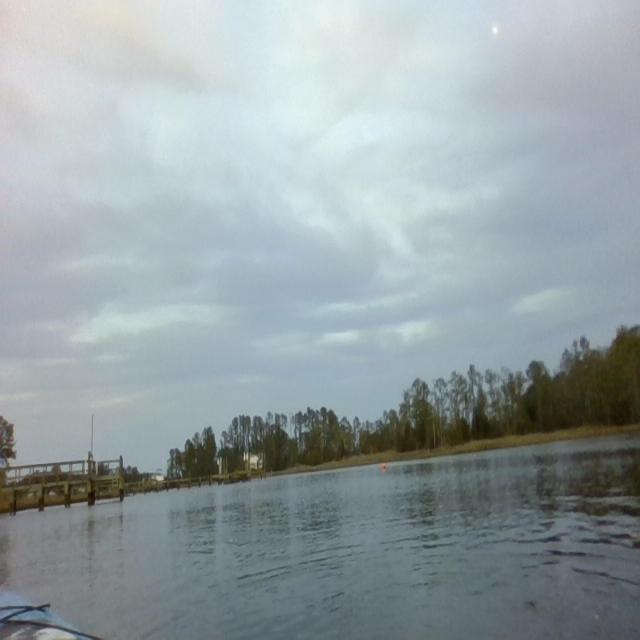Buoy: (381, 460, 388, 474)
